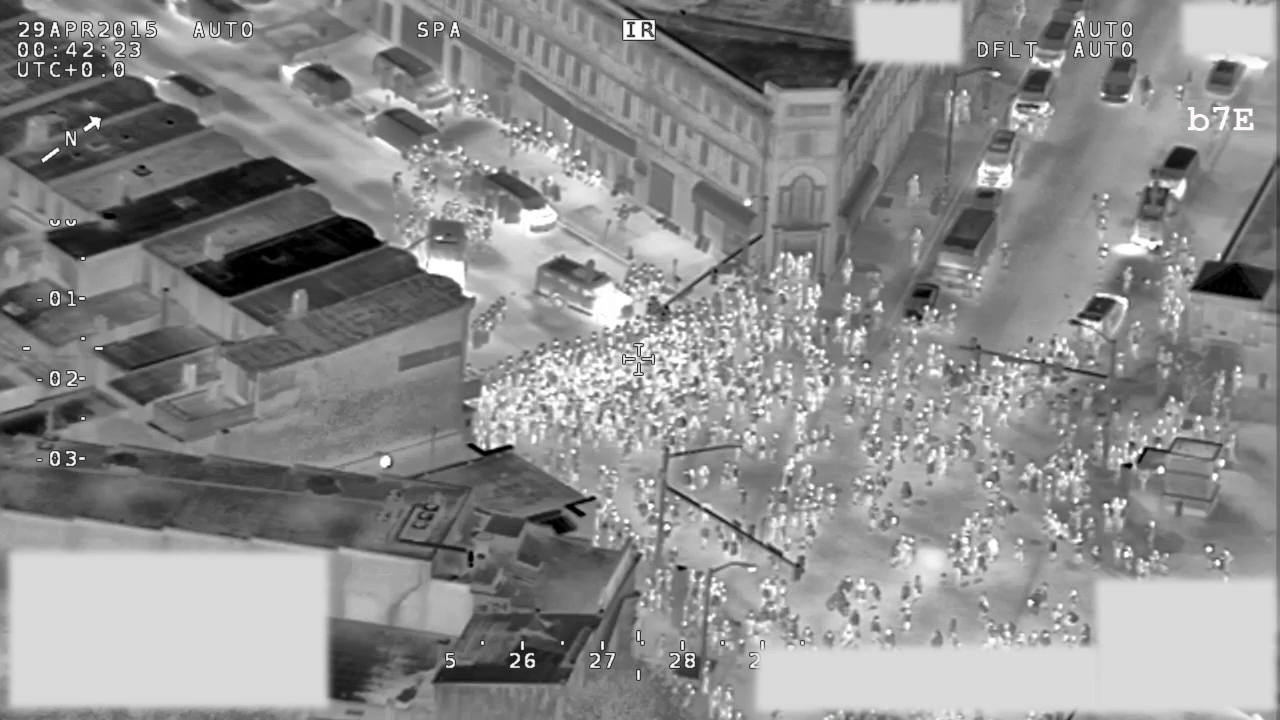vehicle: (528, 248, 640, 324), (473, 162, 564, 235), (367, 38, 458, 110), (360, 98, 449, 167), (936, 203, 1004, 286), (276, 53, 356, 115), (1123, 181, 1184, 253), (1067, 288, 1133, 354), (420, 213, 476, 290), (1144, 138, 1206, 202), (973, 125, 1025, 193), (1009, 65, 1060, 126), (1032, 8, 1083, 67), (1094, 52, 1144, 109), (1201, 54, 1255, 106), (903, 276, 944, 329)
